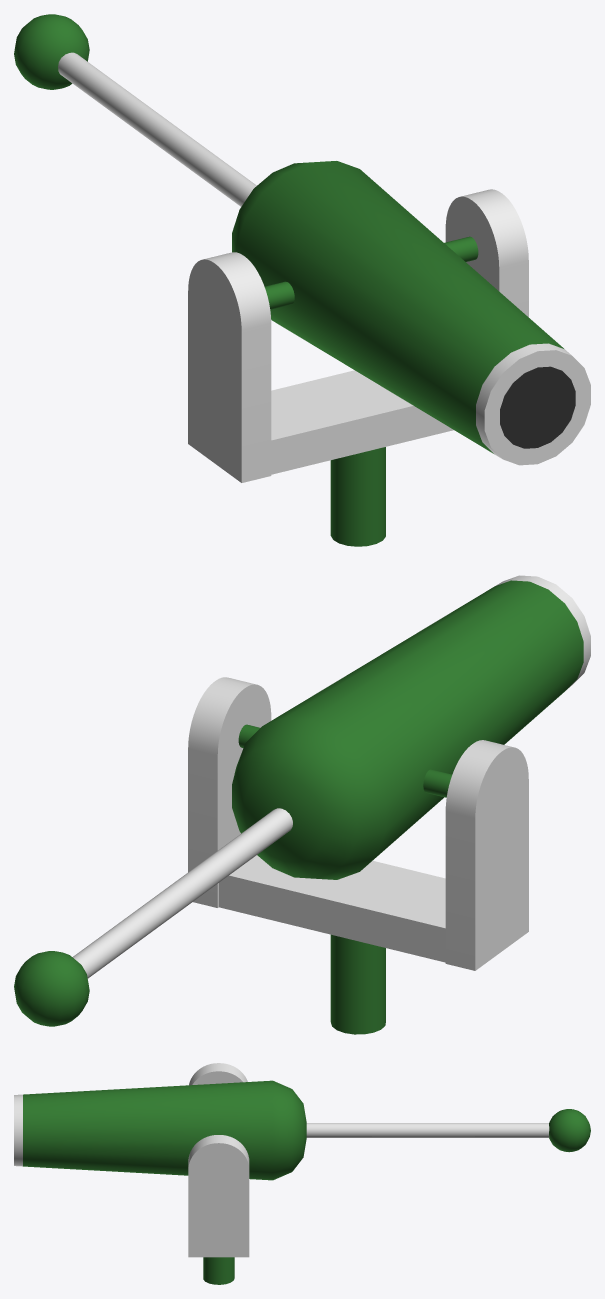
File: Gun B.fbx
The picture shows the model from 3 angles, top to bottom: view 1: azimuth 30°, elevation 25°; view 2: azimuth 150°, elevation 25°; view 3: azimuth 270°, elevation 25°; orthographic projection. The views are drawn at different scales.
Parts seen in each view (by area): view 1: Gun B, Gun B.002, Gun B.001; view 2: Gun B, Gun B.002, Gun B.001; view 3: Gun B, Gun B.002, Gun B.001.
Part boxes in pixels (x1,y1,x2,y2): Gun B: (232, 161, 590, 465); Gun B.002: (188, 189, 528, 546); Gun B.001: (14, 14, 256, 206); Gun B: (232, 575, 590, 879); Gun B.002: (188, 677, 528, 1034); Gun B.001: (14, 808, 292, 1026); Gun B: (14, 1080, 306, 1180); Gun B.002: (188, 1063, 249, 1284); Gun B.001: (306, 1109, 590, 1152).
Size of the model in its own units: 238 by 268 by 726.
